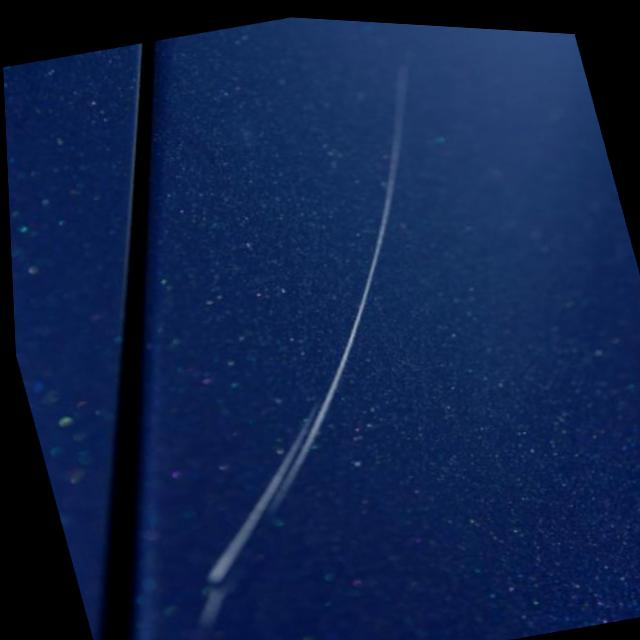Scratch: (196, 98, 404, 629)
